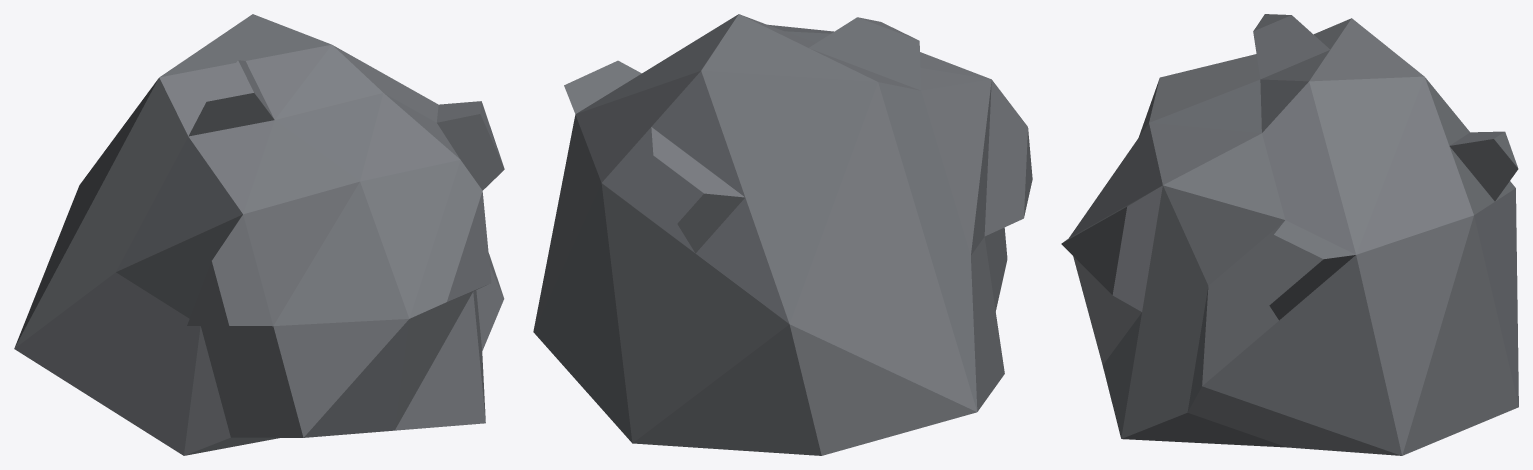
The model's file is Iron1.fbx.
3 renders of one model, left to right at view 1: azimuth 30°, elevation 25°; view 2: azimuth 150°, elevation 25°; view 3: azimuth 270°, elevation 25°, orthographic. The views are drawn at different scales.
Visible parts, largest first — view 1: Rock1; view 2: Rock1; view 3: Rock1.
Part boxes in pixels (bbox=[...]): Rock1: bbox=[14, 14, 504, 455]; Rock1: bbox=[533, 14, 1032, 455]; Rock1: bbox=[1061, 14, 1518, 455].
Size of the model in its own units: 124 by 94.69 by 114.
